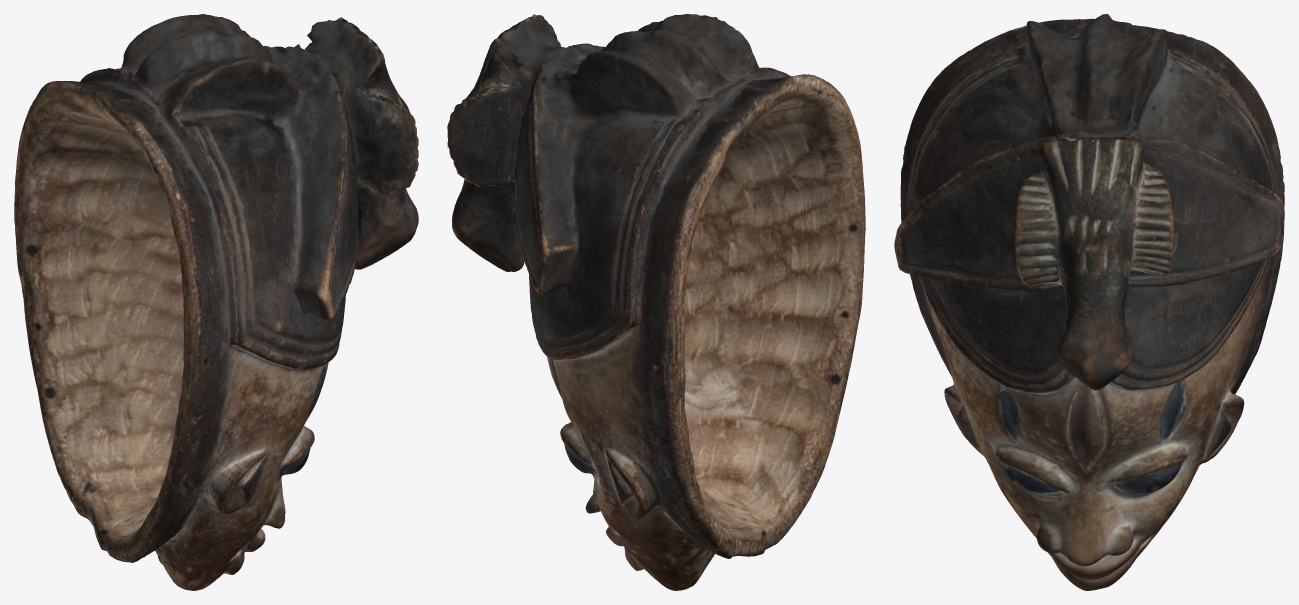
The model's file is Pierrot.glb.
3 renders of one model, left to right at view 1: azimuth 30°, elevation 25°; view 2: azimuth 150°, elevation 25°; view 3: azimuth 270°, elevation 25°, orthographic. The views are drawn at different scales.
Parts seen in each view (by area): view 1: Object_3, Object_4; view 2: Object_3, Object_4; view 3: Object_3, Object_4.
Boxes of the visible parts, x1,y1,x2,y2 form: Object_3: (14,14,418,590); Object_4: (15,20,418,589); Object_3: (447,14,865,590); Object_4: (449,14,865,590); Object_3: (913,14,1284,590); Object_4: (894,18,1283,586).
Size of the model in its own units: 0.3056 by 0.5059 by 0.3166.
1 material, 1 textured.
